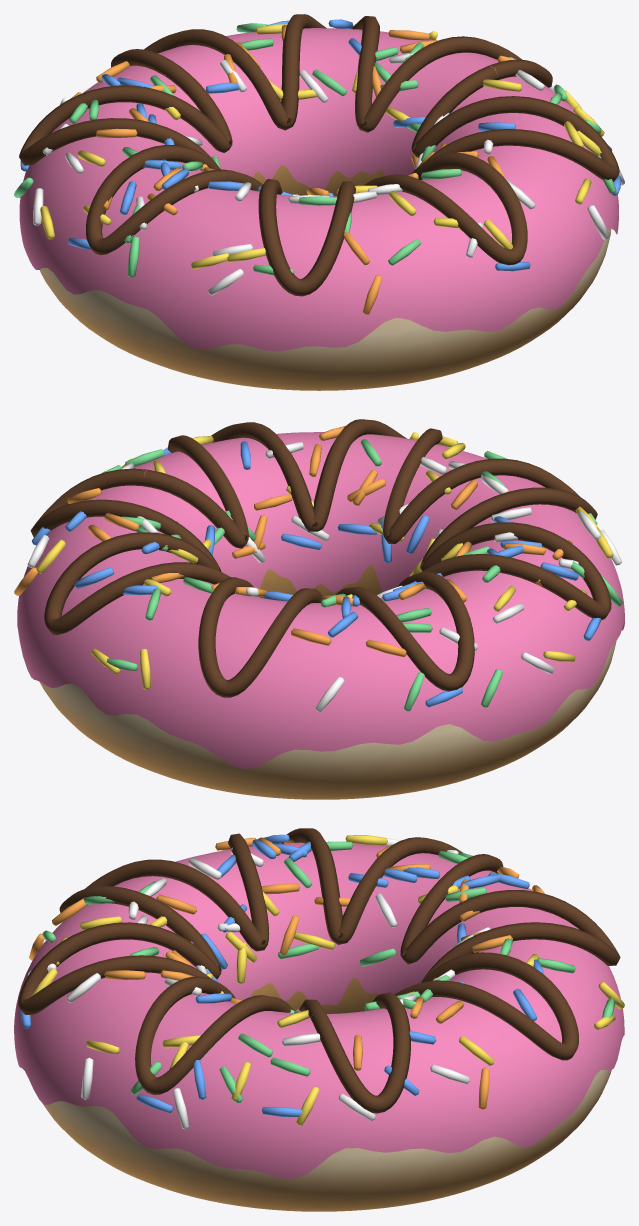
The model's file is donut.glb.
3 views of the same model, one above another, from view 1: azimuth 30°, elevation 25°; view 2: azimuth 150°, elevation 25°; view 3: azimuth 270°, elevation 25° (orthographic).
Parts seen in each view (by area): view 1: Icing, Drizzle, Dough, Sprinkles; view 2: Icing, Drizzle, Dough, Sprinkles; view 3: Icing, Drizzle, Sprinkles, Dough.
Part boxes in pixels (box(x1,y1,x2,y2)): Icing: box(19, 28, 618, 351); Drizzle: box(19, 14, 619, 296); Dough: box(39, 165, 611, 390); Sprinkles: box(14, 19, 624, 314); Icing: box(17, 432, 624, 769); Drizzle: box(30, 419, 611, 697); Dough: box(39, 565, 616, 799); Sprinkles: box(14, 426, 622, 712); Icing: box(14, 842, 624, 1179); Drizzle: box(18, 828, 620, 1113); Sprinkles: box(20, 834, 624, 1129); Dough: box(42, 977, 611, 1211).
Bounding box in the file's own units: 0.1028 × 0.0355 × 0.1023.
